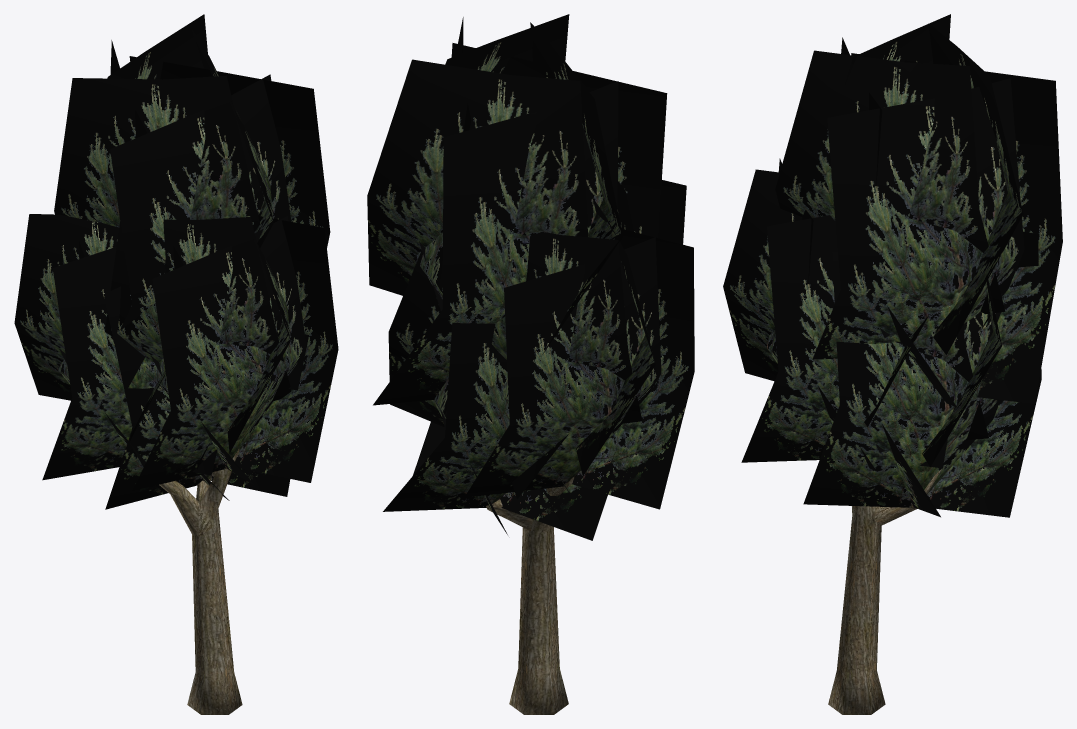
The model's file is Tree_01.dae.
3 renders of one model, left to right at view 1: azimuth 30°, elevation 25°; view 2: azimuth 150°, elevation 25°; view 3: azimuth 270°, elevation 25°, orthographic. The views are drawn at different scales.
Parts seen in each view (by area): view 1: Tree_01; view 2: Tree_01; view 3: Tree_01.
Part boxes in pixels (left/top/right/bottom): Tree_01: left=14, top=14, right=338, bottom=714; Tree_01: left=367, top=14, right=694, bottom=714; Tree_01: left=723, top=14, right=1062, bottom=714.
Bounding box in the file's own units: 3.57 × 3.77 × 8.02.
Materials: 2 (2 with a texture image).
